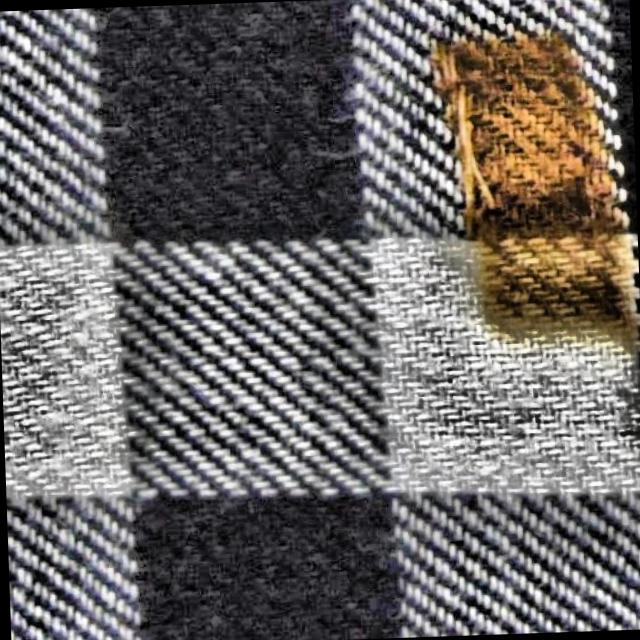stain: (434, 21, 634, 364)
